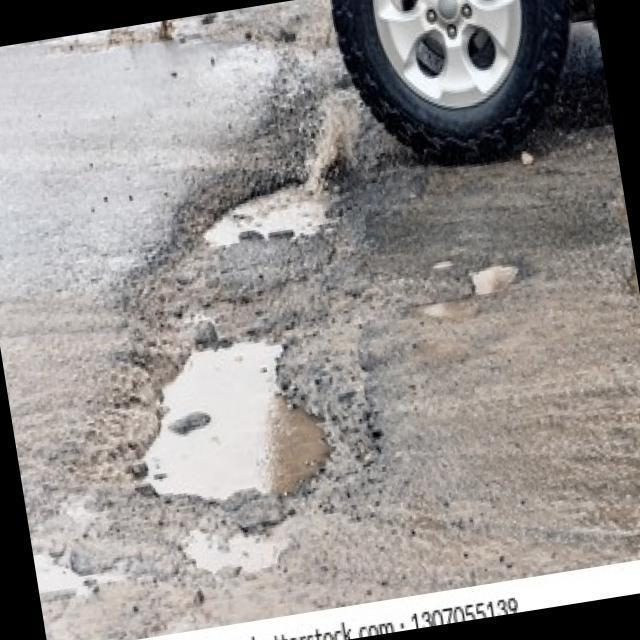pothole: (100, 312, 356, 538), (186, 155, 355, 272)
